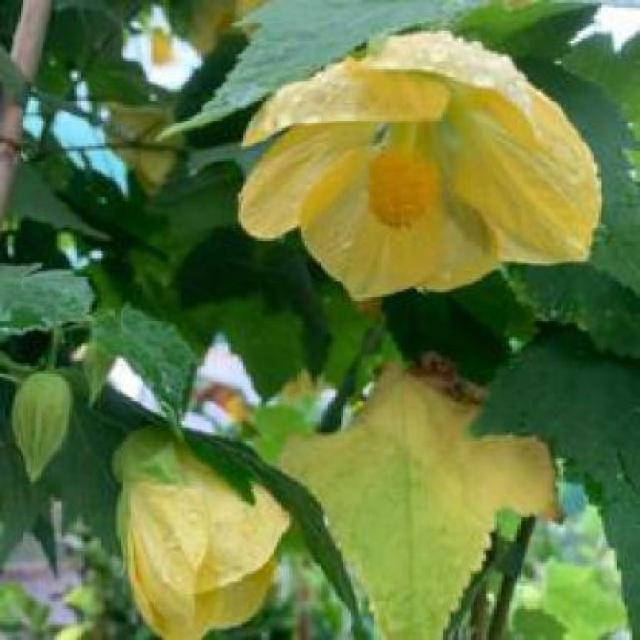Flower: (236, 31, 602, 300), (115, 433, 294, 638), (368, 146, 435, 228)
